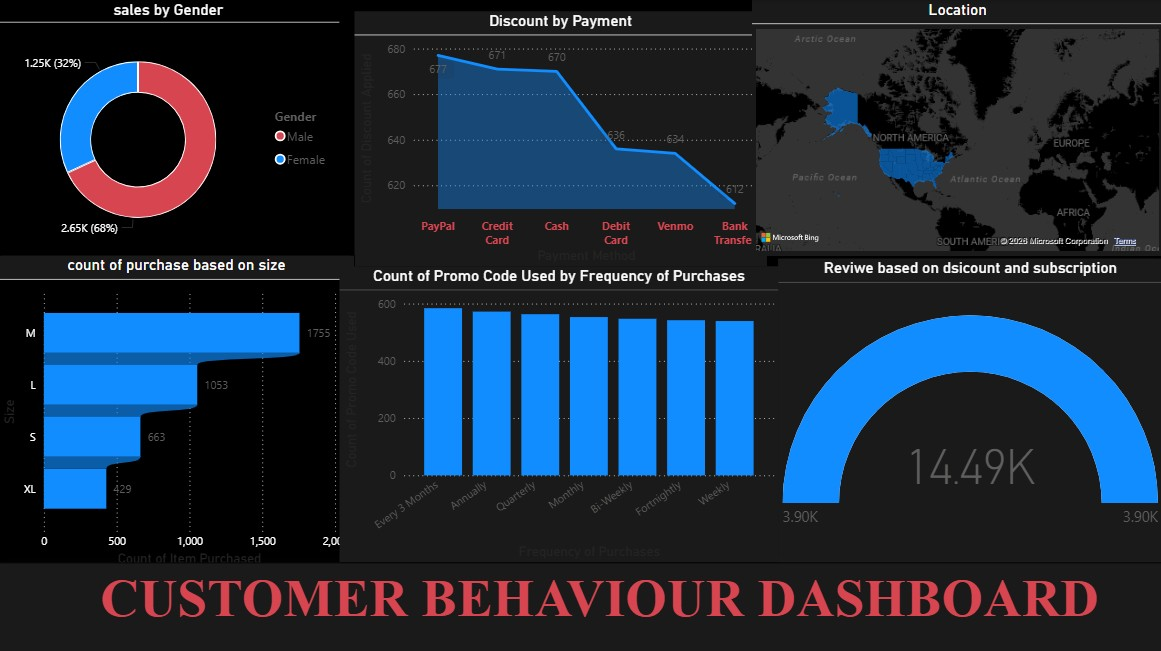

The dashboard page shown, as its layout file describes it:
{"tool":"powerbi","page":{"name":"Page 1","canvas":[1280,720],"ordinal":0},"visuals":[{"type":"donutChart","fields":{"Category":["customer_shopping_behavior1.Gender"],"Y":["CountNonNull(customer_shopping_behavior1.Customer ID)"]},"box":[0,3.7,375.5,279.8],"z":0},{"type":"areaChart","title":"Discount by Payment","fields":{"Category":["customer_shopping_behavior1.Payment Method"],"Y":["CountNonNull(customer_shopping_behavior1.Discount Applied)"]},"box":[392.6,12.3,452.8,279.8],"z":1000},{"type":"barChart","title":"count of purchase based on size","fields":{"Y":["CountNonNull(customer_shopping_behavior1.Item Purchased)"],"Category":["customer_shopping_behavior1.Size"]},"box":[0,279.8,392.6,346],"z":2000},{"type":"filledMap","fields":{"Category":["customer_shopping_behavior1.Location"]},"box":[828.2,0,451.5,279.8],"z":3000},{"type":"columnChart","fields":{"Category":["customer_shopping_behavior1.Frequency of Purchases"],"Y":["CountNonNull(customer_shopping_behavior1.Promo Code Used)"]},"box":[375.5,292,482.2,325.2],"z":4000},{"type":"gauge","title":"Reviwe based on dsicount  and subscription","fields":{"Y":["Sum(customer_shopping_behavior1.Review Rating)"],"MinValue":["CountNonNull(customer_shopping_behavior1.Discount Applied)"],"MaxValue":["CountNonNull(customer_shopping_behavior1.Subscription Status)"]},"box":[857.7,283.4,422.1,333.7],"z":5000},{"type":"textbox","box":[0,617.2,1279.8,103.1],"z":6000}]}

Visuals, with their boxes in screenshot pixels (x1, y1, x2, y2), scaled from the page's 1280x720 canvas onto the 1161x651 screenshot:
donutChart - customer_shopping_behavior1.Gender x CountNonNull(customer_shopping_behavior1.Customer ID): 0:3:341:256
"Discount by Payment" areaChart: 356:11:767:264
"count of purchase based on size" barChart: 0:253:356:566
filledMap - customer_shopping_behavior1.Location: 751:0:1160:253
columnChart - customer_shopping_behavior1.Frequency of Purchases x CountNonNull(customer_shopping_behavior1.Promo Code Used): 341:264:778:558
"Reviwe based on dsicount  and subscription" gauge: 778:256:1160:558
textbox: 0:558:1160:650
